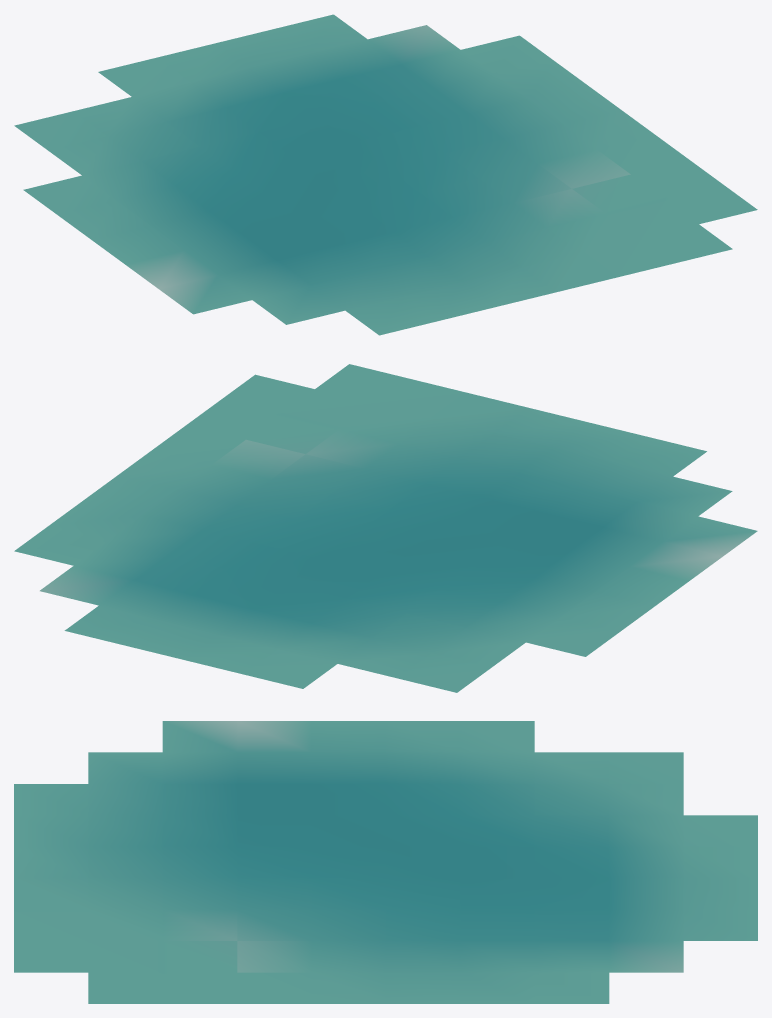
The model's file is ISL2_Spring.fbx.
The picture shows the model from 3 angles, top to bottom: view 1: azimuth 30°, elevation 25°; view 2: azimuth 150°, elevation 25°; view 3: azimuth 270°, elevation 25°; orthographic projection. The views are drawn at different scales.
Visible parts, largest first — view 1: ISL2_Spring.001; view 2: ISL2_Spring.001; view 3: ISL2_Spring.001.
Part boxes in pixels (bbox=[...]): ISL2_Spring.001: bbox=[14, 14, 757, 335]; ISL2_Spring.001: bbox=[14, 364, 757, 692]; ISL2_Spring.001: bbox=[14, 721, 757, 1003].
Bounding box in the file's own units: 3.6 × 0 × 4.
